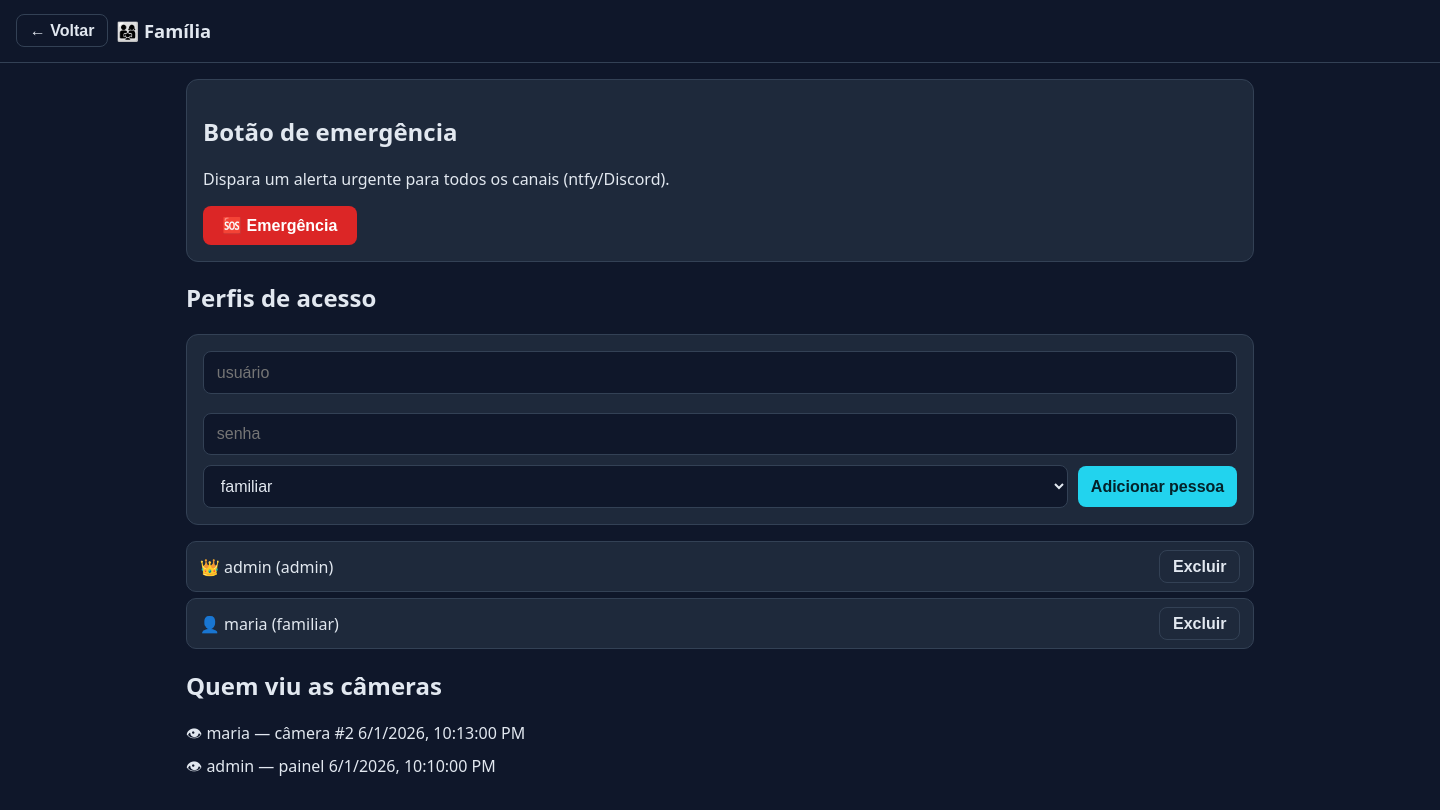
Test: Family › shows a generic error when creating rejects with a non-Error
Expected: the text "👑 admin (admin)" is shown, [200,556,333,578]
Type "x" into the field with placeholder "usuário". click: (720, 373)
box: [203,351,1237,394]
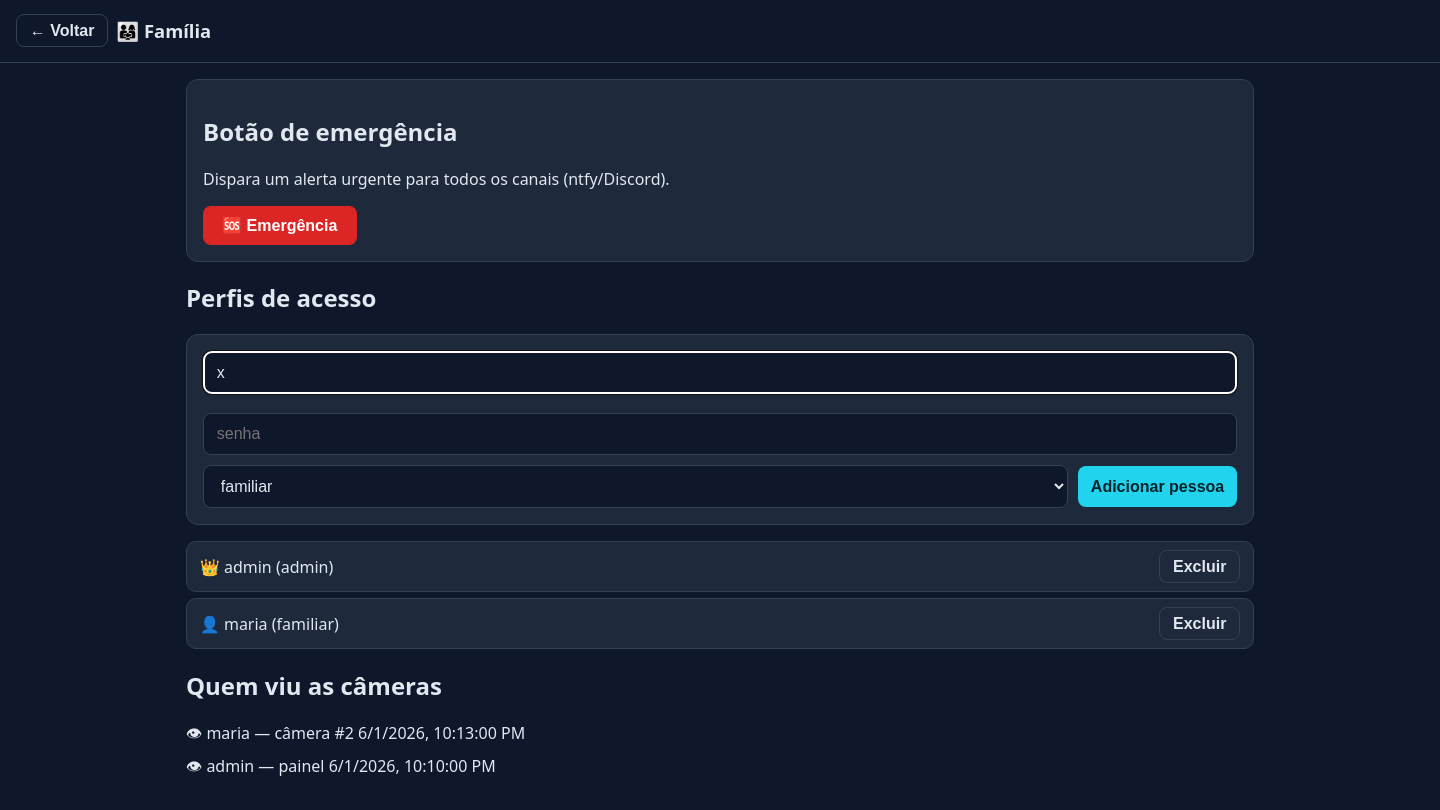
Type "y" into the password field with placeholder "senha". click: (720, 434)
box: [203,413,1237,455]
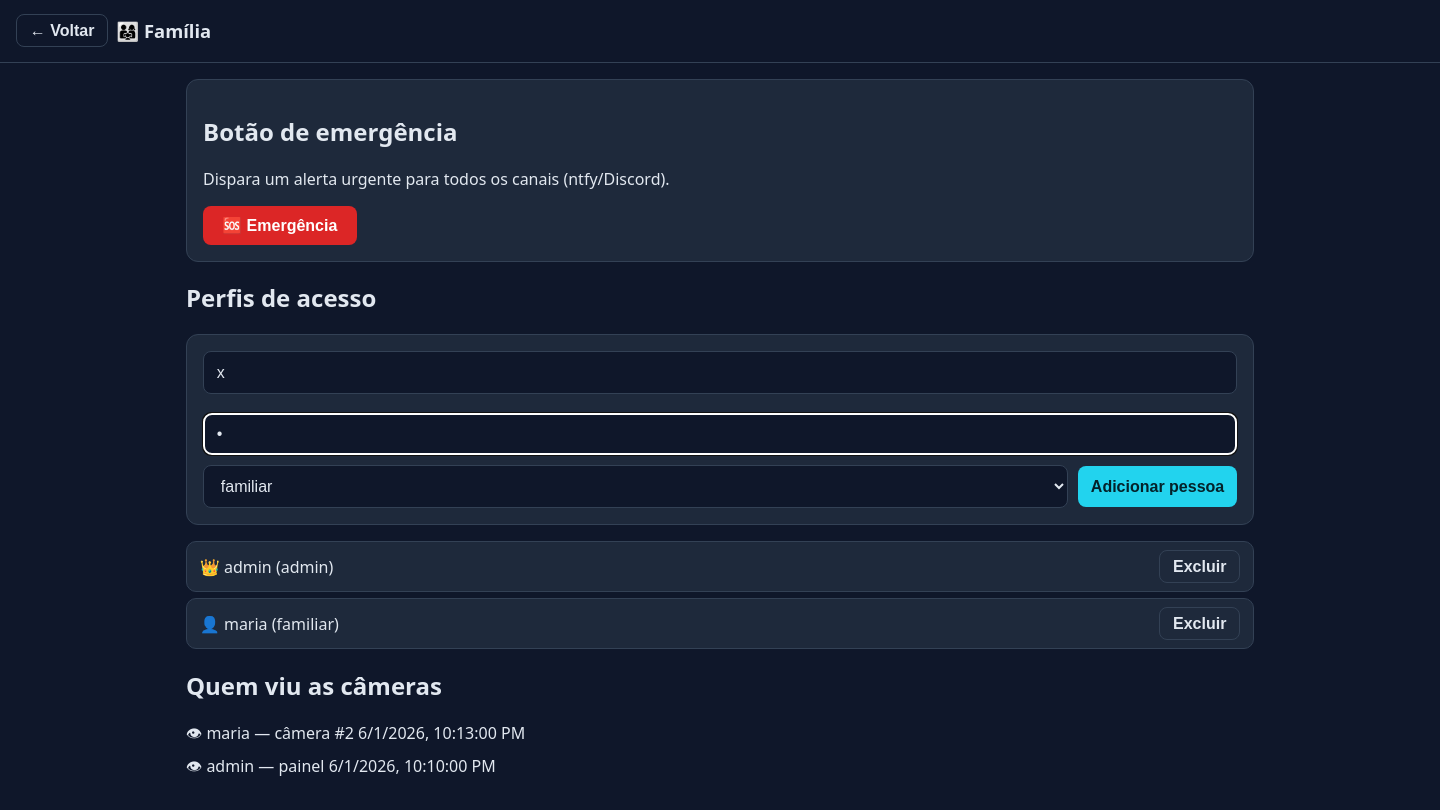
Click the button "Adicionar pessoa". click: (1158, 487)
box: [1078,466,1237,507]
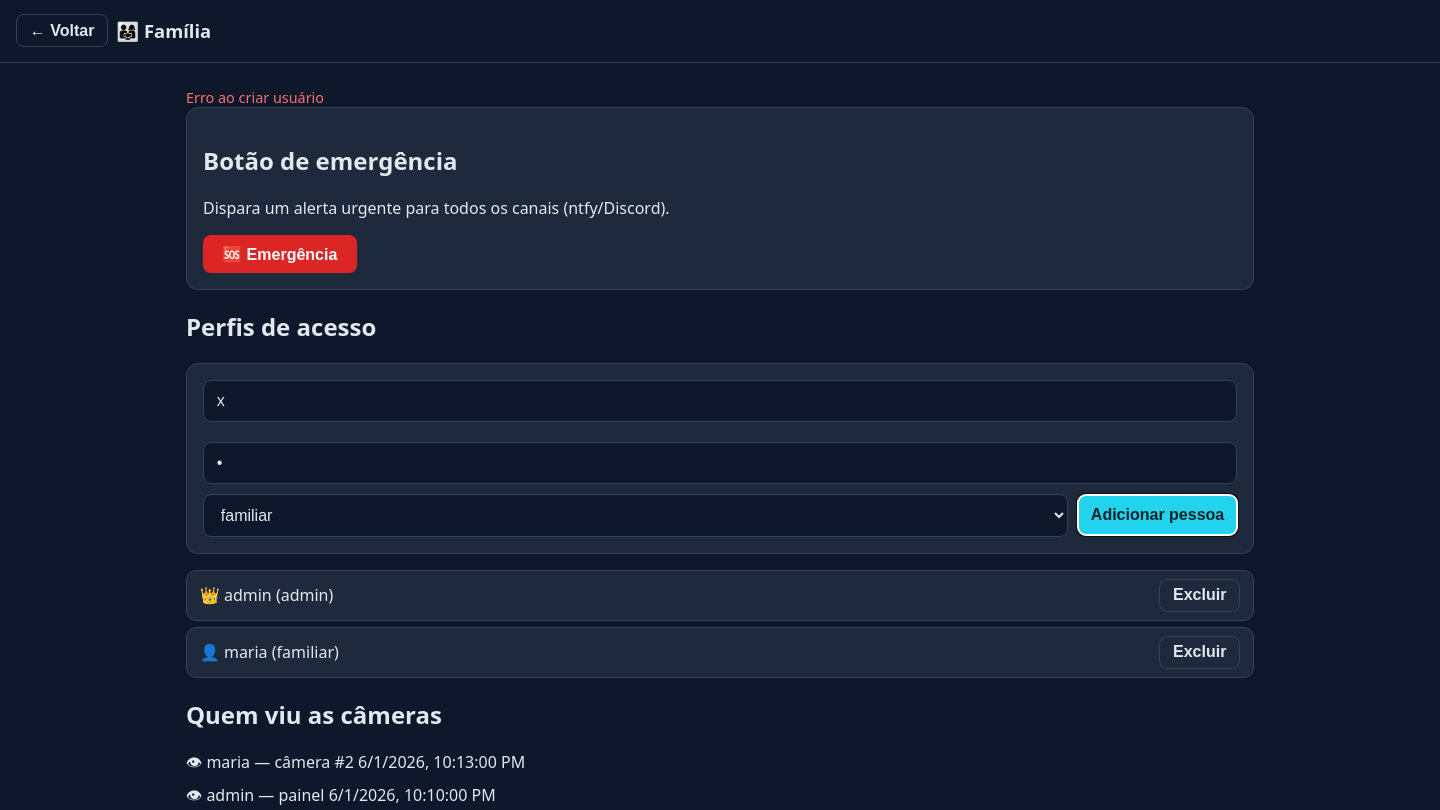
Expected: the text "Erro ao criar usuário" is shown, [186,88,324,107]
